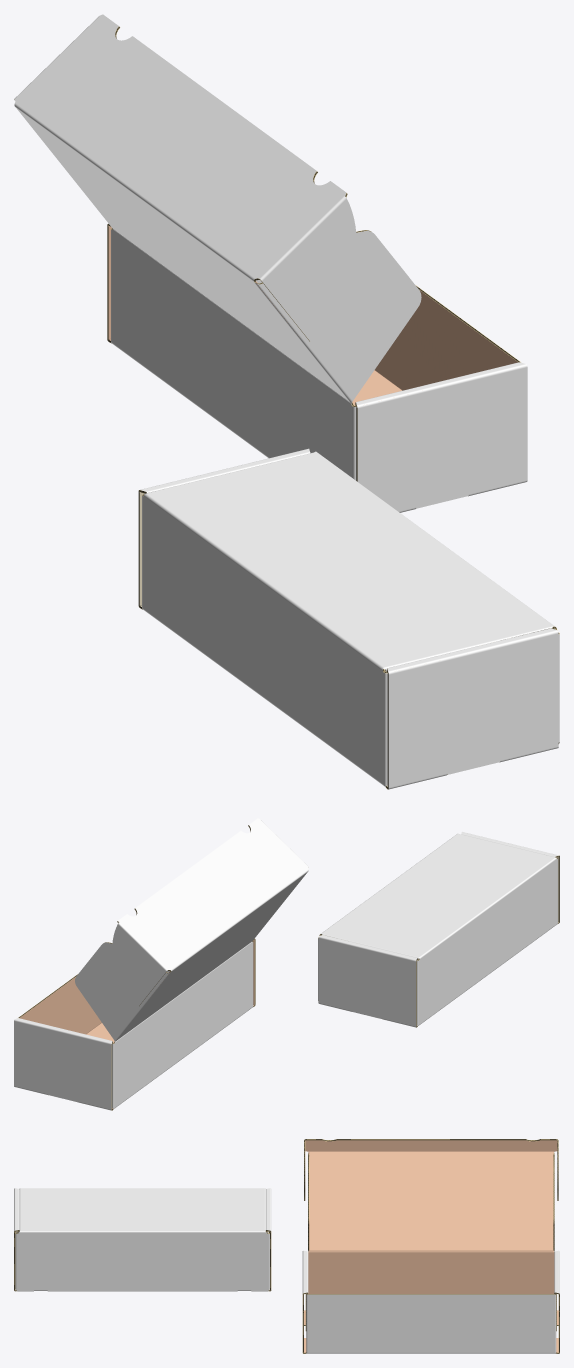
File: 3D ROANO.gltf
3 views of the same model, one above another, from view 1: azimuth 30°, elevation 25°; view 2: azimuth 150°, elevation 25°; view 3: azimuth 270°, elevation 25° (orthographic). The views are drawn at different scales.
Parts seen in each view (by area): view 1: TQ_ARD-node.001, TQ_ARD-node; view 2: TQ_ARD-node.001, TQ_ARD-node; view 3: TQ_ARD-node.001, TQ_ARD-node.
Part boxes in pixels (box(x1,y1,x2,y2)): TQ_ARD-node.001: box(14, 14, 527, 512); TQ_ARD-node: box(138, 448, 559, 789); TQ_ARD-node.001: box(14, 818, 308, 1110); TQ_ARD-node: box(318, 832, 559, 1027); TQ_ARD-node.001: box(302, 1139, 559, 1353); TQ_ARD-node: box(14, 1188, 271, 1291).
Bounding box in the file's own units: 0.304 × 0.2296 × 0.6652.
Materials: 6 (2 with a texture image).
